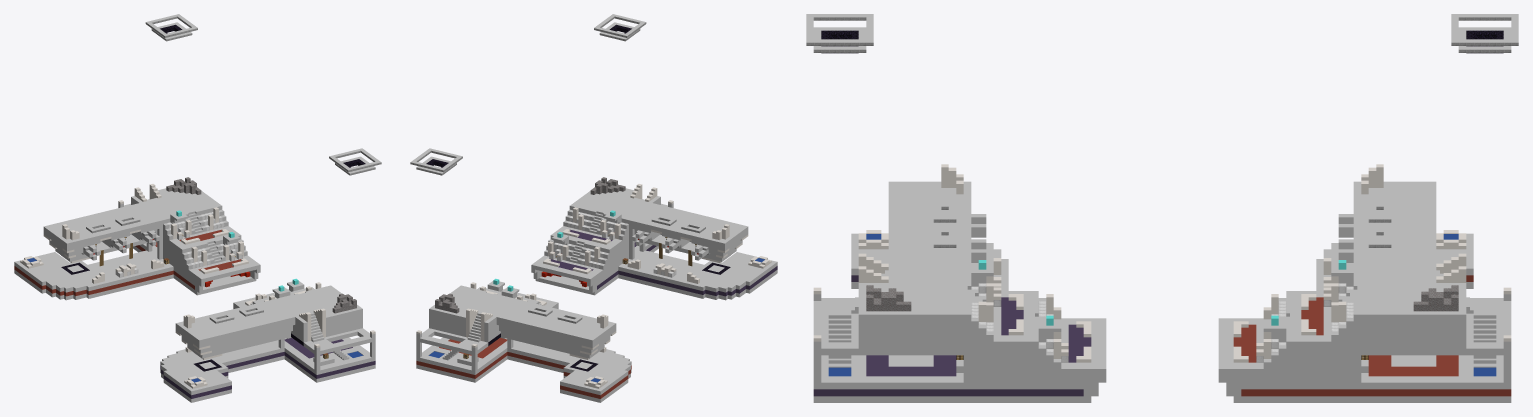
The model's file is minecraft.obj.
3 views of the same model, side by side, from view 1: azimuth 30°, elevation 25°; view 2: azimuth 150°, elevation 25°; view 3: azimuth 270°, elevation 25° (orthographic). The views are drawn at different scales.
Bounding box in the file's own units: 48 × 53.5 × 95.
